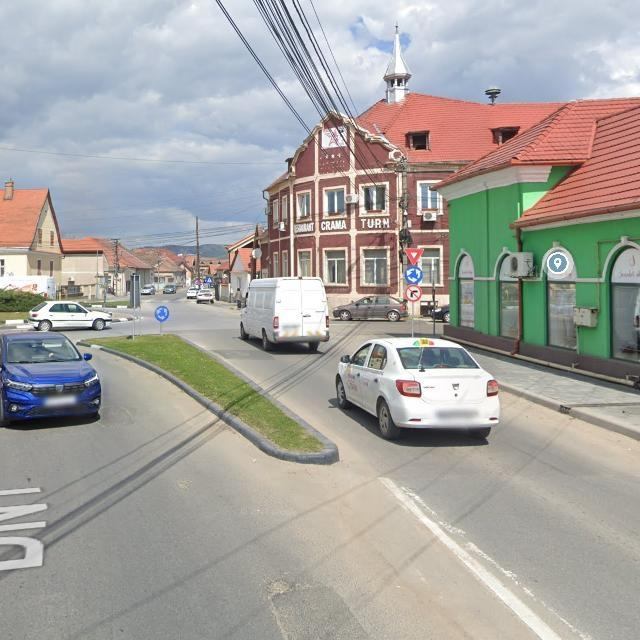info_crosswalk: (206, 276, 212, 284)
prio_give_way: (404, 248, 424, 266)
